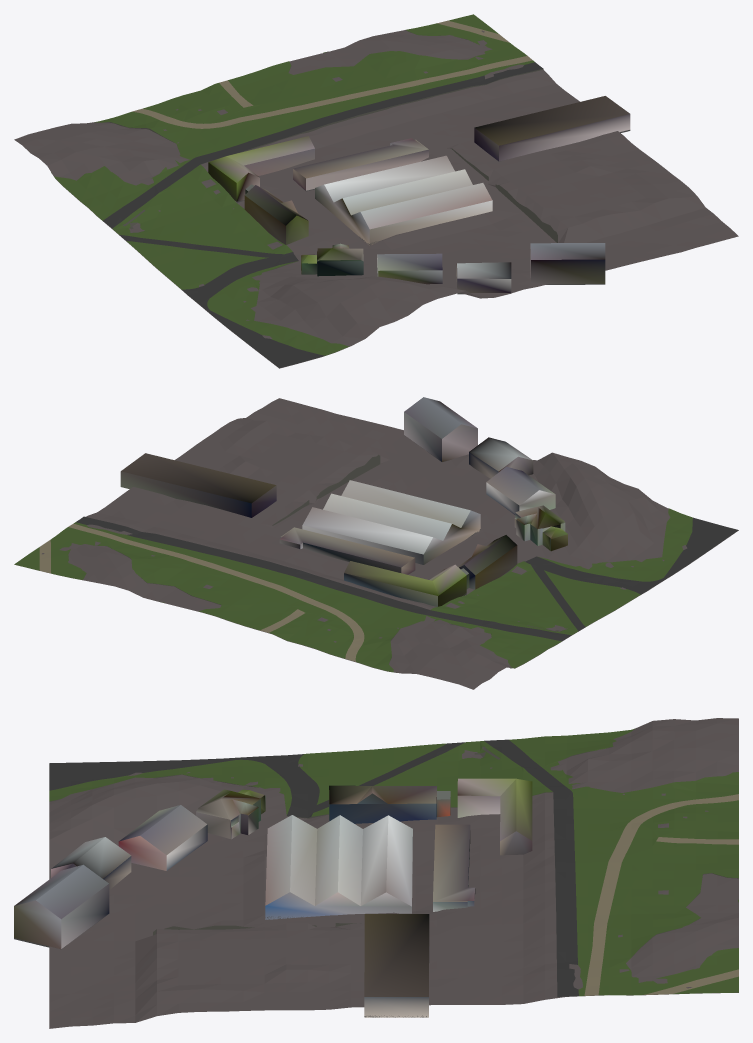
3 renders of one model, top to bottom at view 1: azimuth 30°, elevation 25°; view 2: azimuth 150°, elevation 25°; view 3: azimuth 270°, elevation 25°, orthographic. The views are drawn at different scales.
Parts seen in each view (by area): view 1: c_m10_m16; view 2: c_m10_m16; view 3: c_m10_m16.
Boxes of the visible parts, x1,y1,x2,y2 form: c_m10_m16: (14,14,738,368); c_m10_m16: (14,397,738,689); c_m10_m16: (14,718,738,1028).
Size of the model in its own units: 132 by 14.12 by 135.
